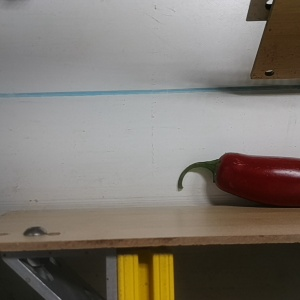Cut Point: (205, 149, 234, 193)
